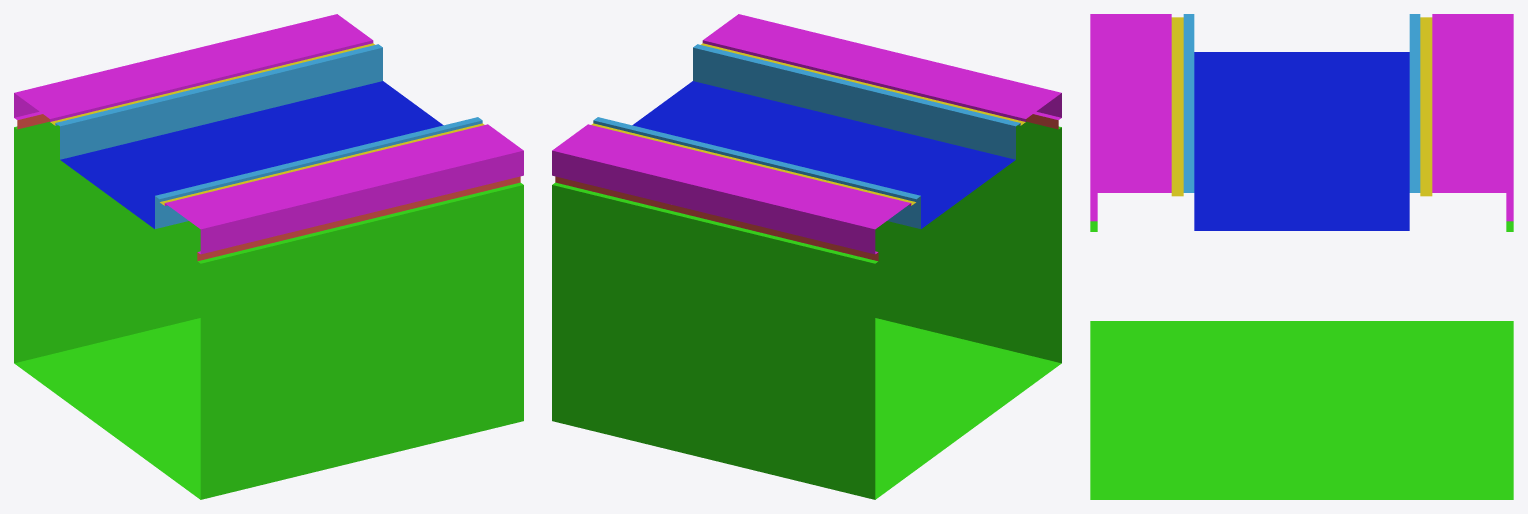
Rendered from Flower_Bed_04_Middle.fbx.
3 views of the same model, side by side, from view 1: azimuth 30°, elevation 25°; view 2: azimuth 150°, elevation 25°; view 3: azimuth 270°, elevation 25° (orthographic). The views are drawn at different scales.
Visible parts, largest first — view 1: Flower_Bed_04_Middle; view 2: Flower_Bed_04_Middle; view 3: Flower_Bed_04_Middle.
Boxes of the visible parts, x1=… form: Flower_Bed_04_Middle: x1=14, y1=14, x2=523, y2=499; Flower_Bed_04_Middle: x1=552, y1=14, x2=1061, y2=499; Flower_Bed_04_Middle: x1=1090, y1=14, x2=1513, y2=499.
Size of the model in its own units: 114 by 91.44 by 114.
